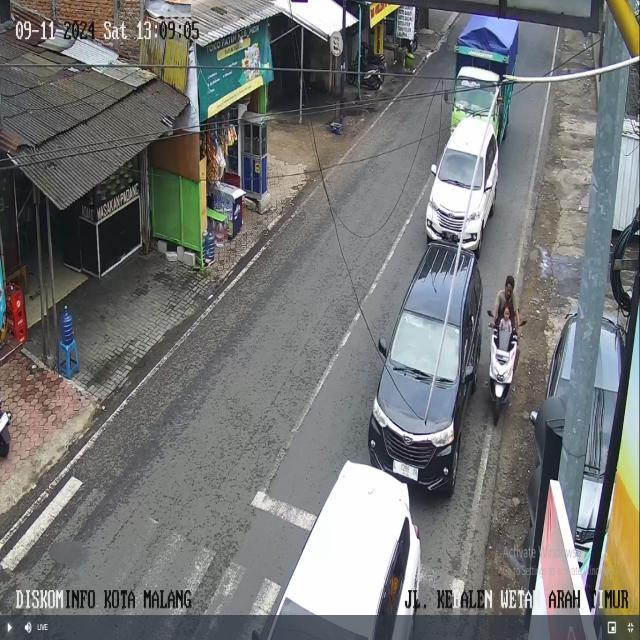Number Plate: (393, 460, 418, 480)
Rearview Mirror: (378, 337, 387, 356), (465, 365, 473, 381), (529, 410, 537, 425), (485, 178, 493, 191), (251, 630, 260, 639), (443, 90, 449, 103), (431, 164, 436, 175), (487, 310, 493, 317), (519, 319, 526, 325)
